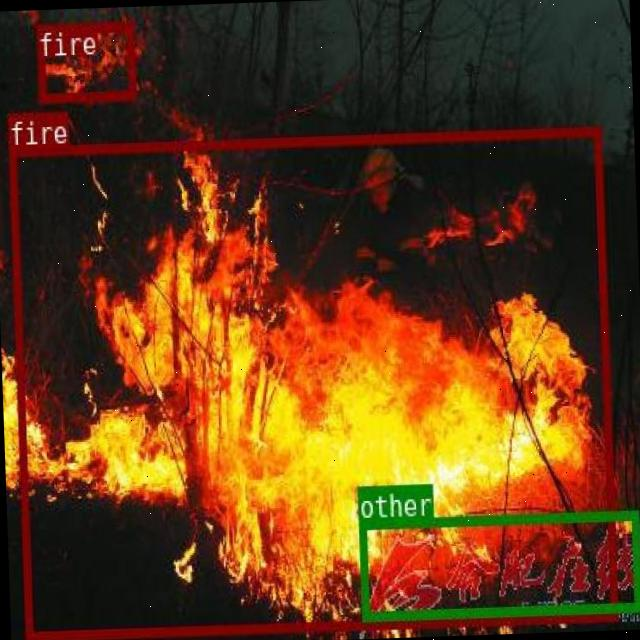fire: (8, 126, 616, 638), (36, 20, 134, 100)
